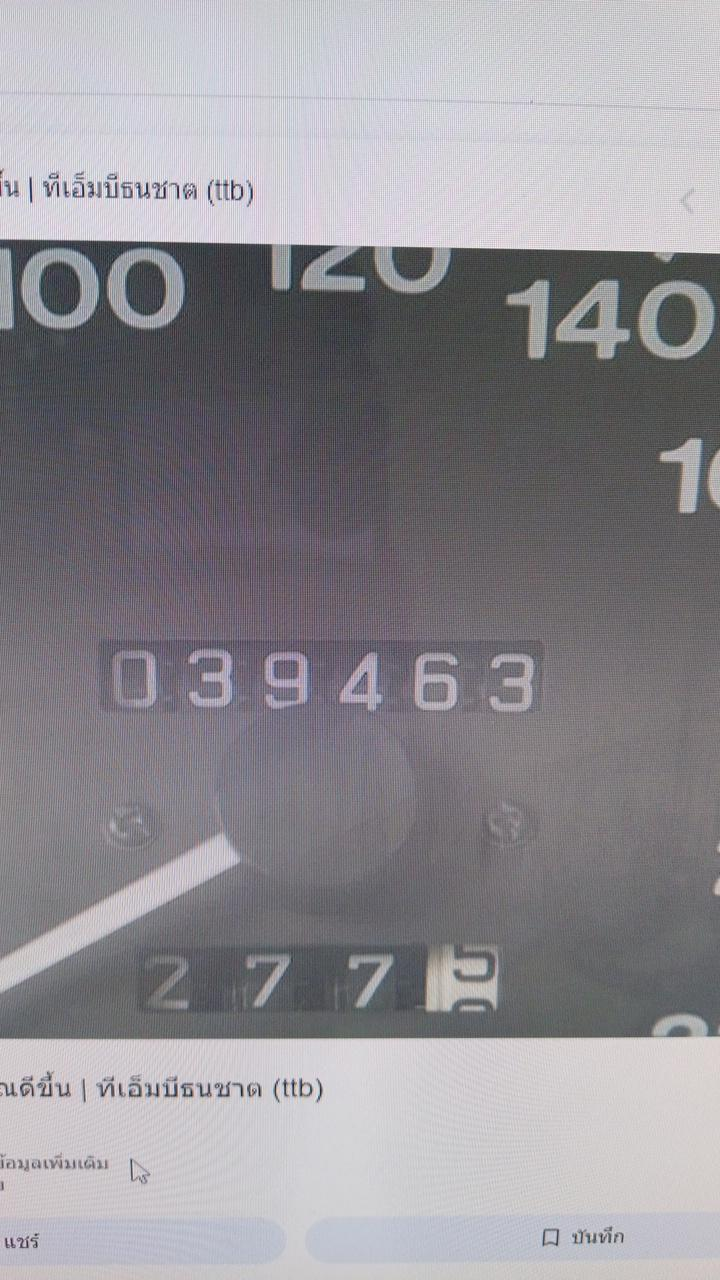0: (110, 649, 158, 710)
3: (186, 646, 234, 709), (489, 651, 536, 714)
4: (337, 651, 383, 713)
6: (415, 651, 458, 712)
9: (264, 651, 309, 710)
odometer: (97, 638, 544, 717)
